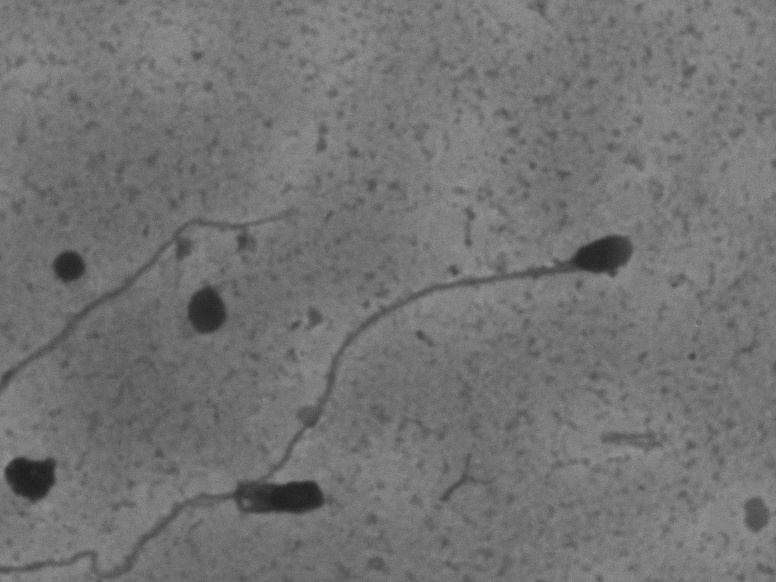Normal: (135, 213, 652, 562)
